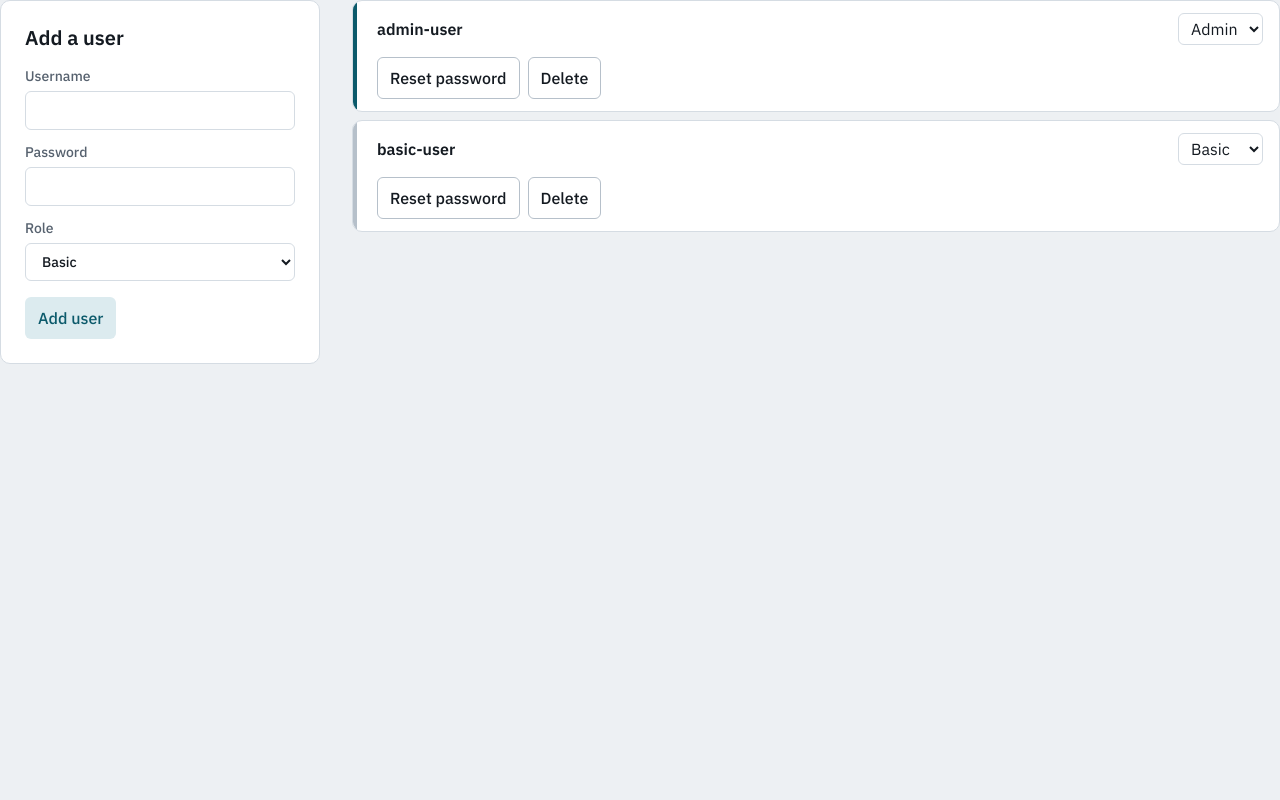
Test: creating a user posts it and reloads the list
Expected: the text "admin-user" is shown, [377, 17, 463, 41]
Type "new-user" into the field labelled "Username".
click(160, 110); type("new-user")  # box [25, 91, 295, 130]
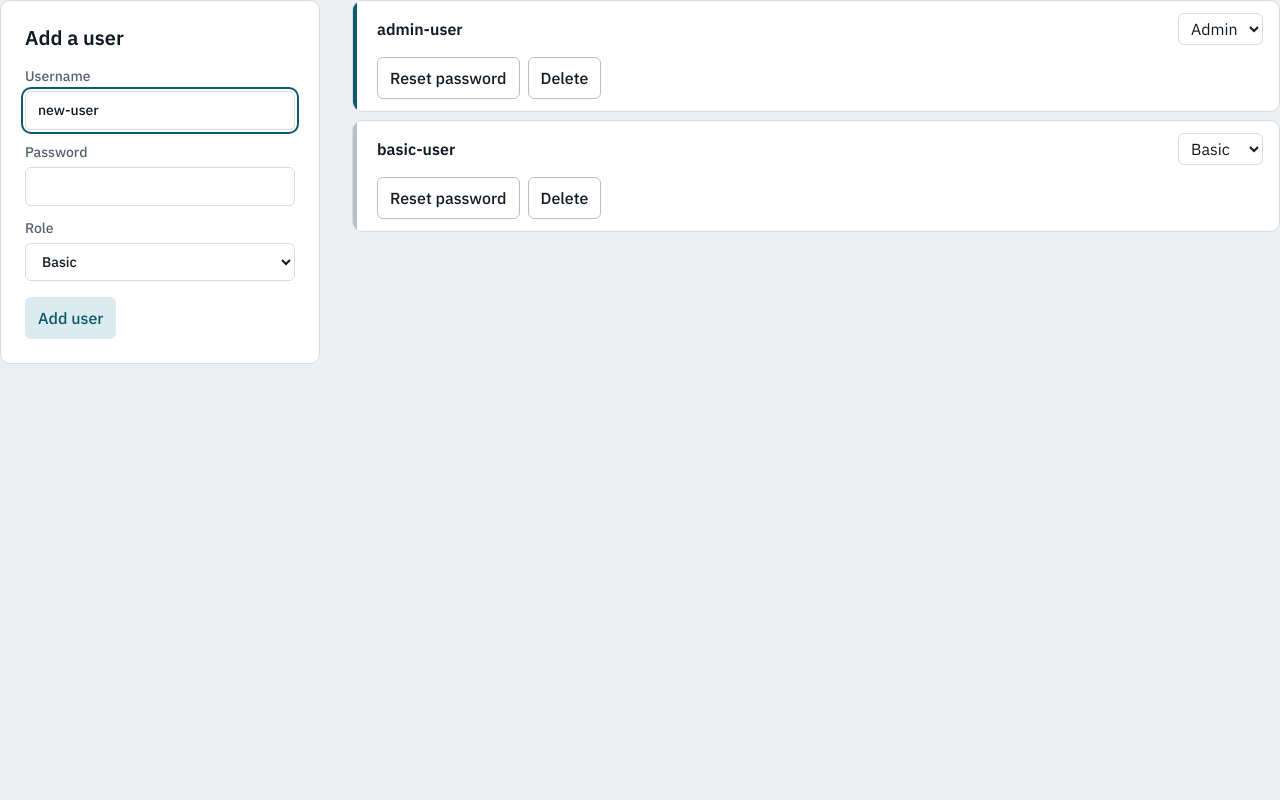
Type "new-password" into the password field labelled "Password".
click(160, 186); type("new-password")  # box [25, 167, 295, 206]
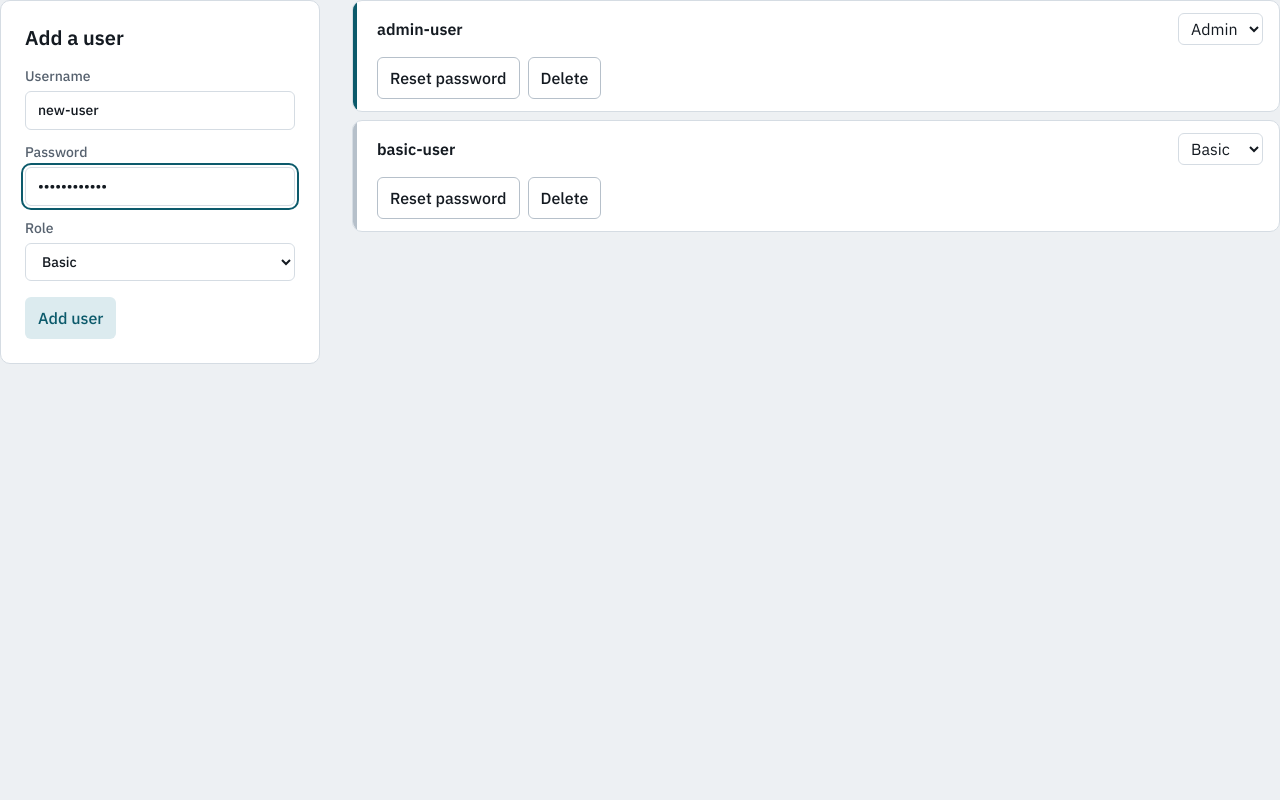
Click the button "Add user".
click(71, 318)  # box [25, 297, 116, 339]
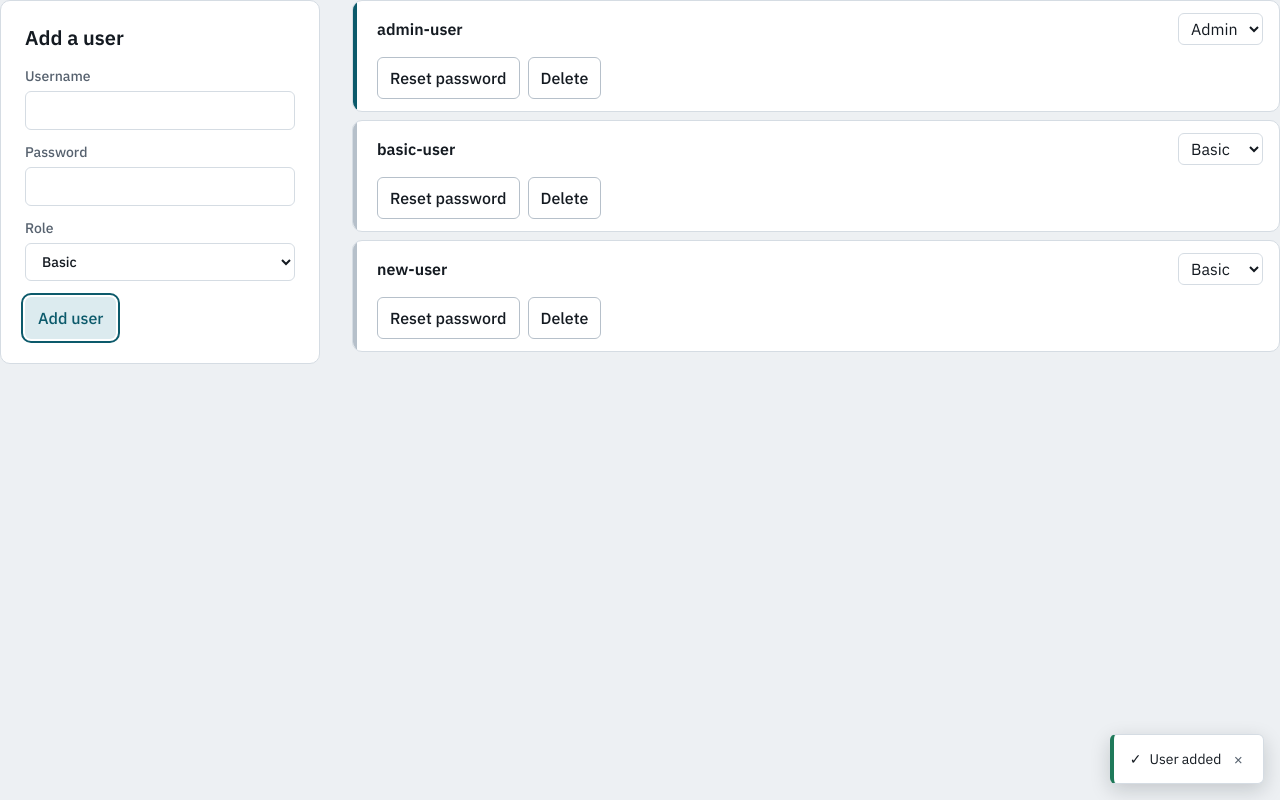
Result: the text "new-user" is shown at [377, 257, 447, 281]
